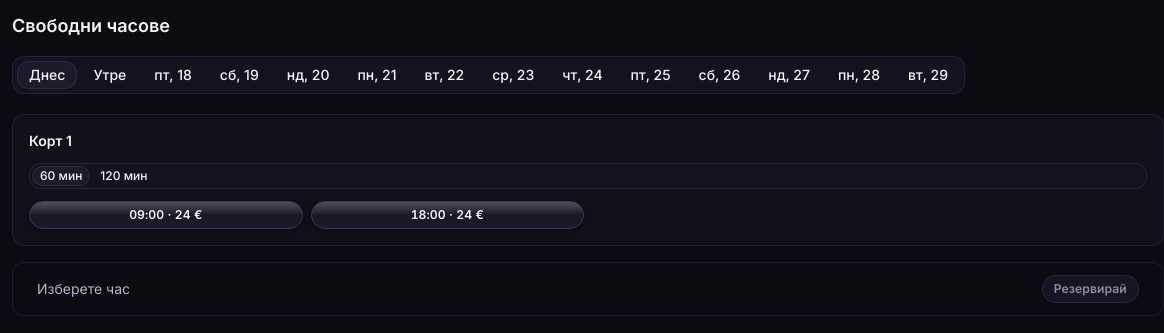
it: the slot picker › offers the court’s lengths, each start priced for the length chosen
Click the radio button labelled "120 мин". click: (124, 176)
box: [92,166,155,186]
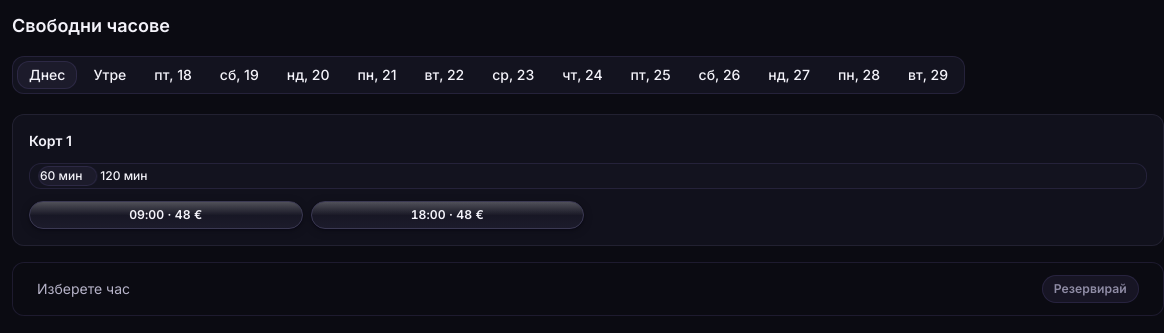
Expected: the button "09:00 · 48 €" is shown, [29,201,302,229]
